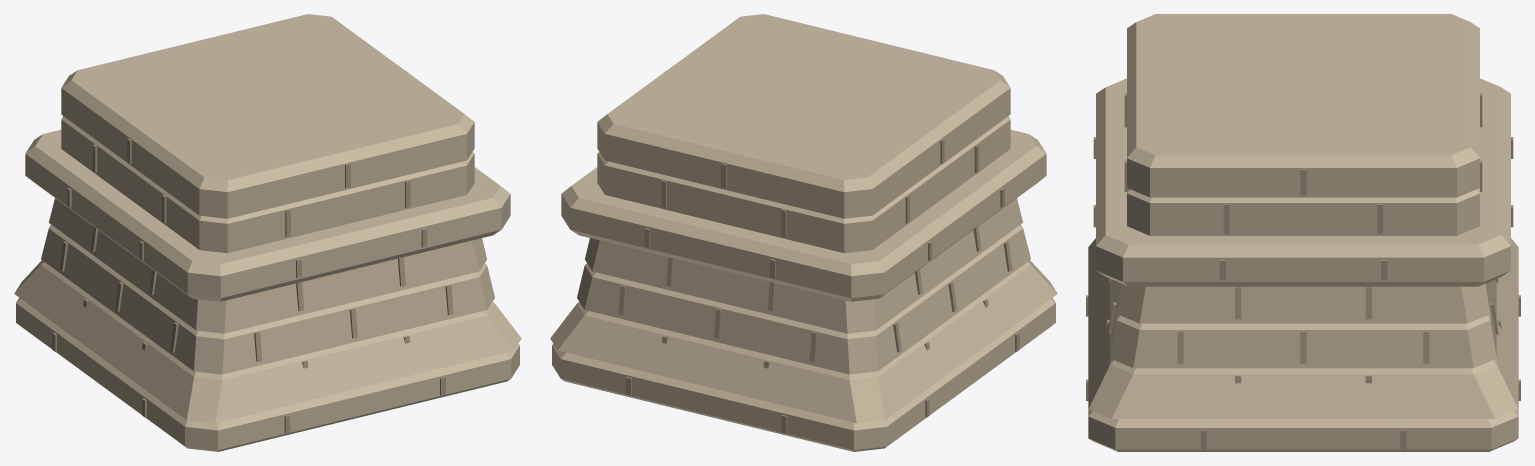
The model's file is MortarBase.obj.
3 renders of one model, left to right at view 1: azimuth 30°, elevation 25°; view 2: azimuth 150°, elevation 25°; view 3: azimuth 270°, elevation 25°, orthographic. The views are drawn at different scales.
Visible parts, largest first — view 1: MortarBase; view 2: MortarBase; view 3: MortarBase.
Boxes of the visible parts, x1,y1,x2,y2 form: MortarBase: [14, 14, 521, 451]; MortarBase: [550, 14, 1057, 451]; MortarBase: [1086, 14, 1520, 451].
Bounding box in the file's own units: 1.13 × 0.8 × 1.13.
